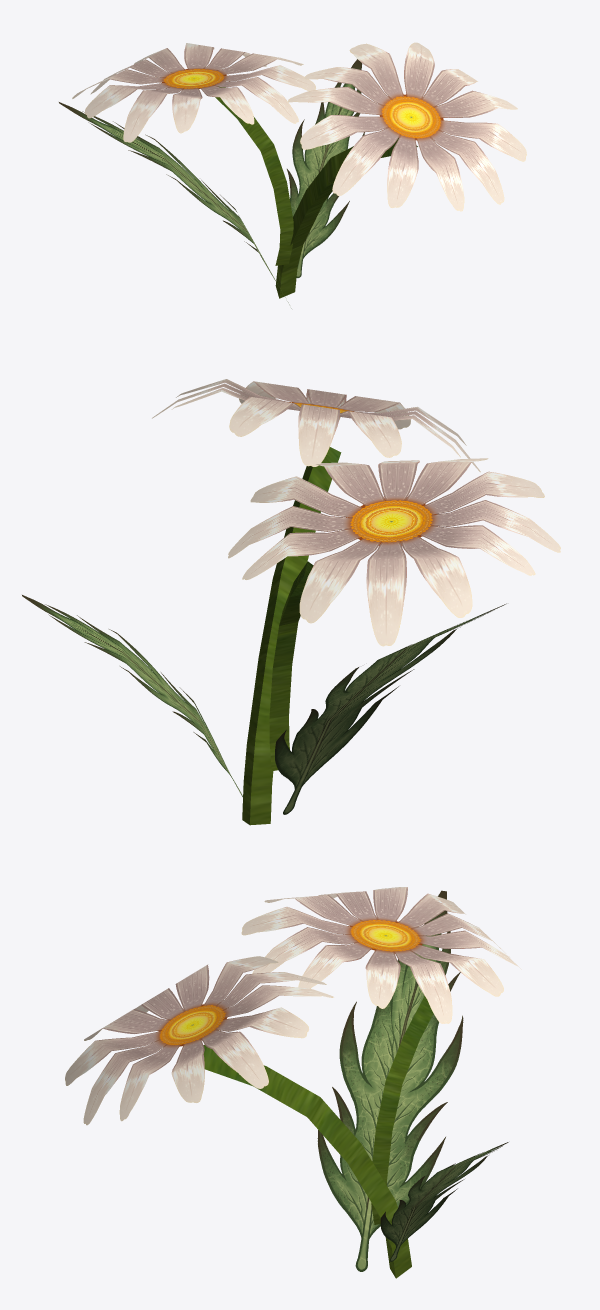
The model's file is flower_1.fbx.
3 renders of one model, top to bottom at view 1: azimuth 30°, elevation 25°; view 2: azimuth 150°, elevation 25°; view 3: azimuth 270°, elevation 25°, orthographic. The views are drawn at different scales.
Visible parts, largest first — view 1: Plane.022; view 2: Plane.022; view 3: Plane.022.
Boxes of the visible parts, <box> form: Plane.022: <box>59,42,526,308</box>; Plane.022: <box>22,379,560,825</box>; Plane.022: <box>65,887,521,1278</box>.
Bounding box in the file's own units: 48.42 × 29.03 × 46.24.
